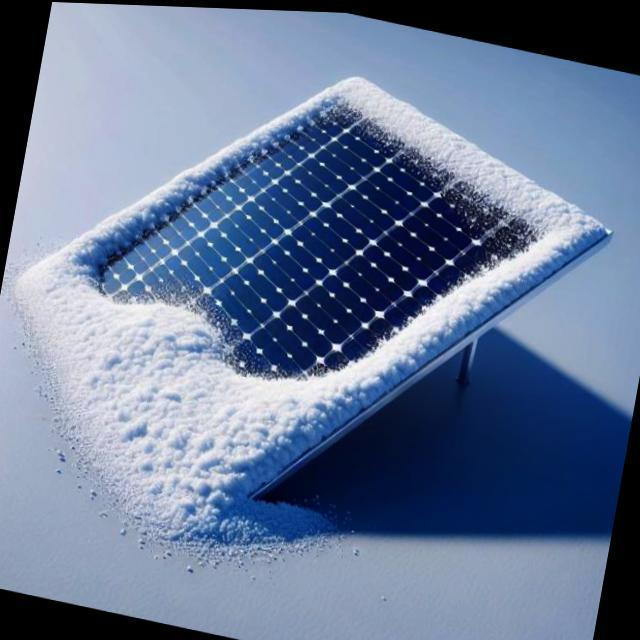Anomaly Solar Panel: (17, 26, 635, 539)
Snow: (15, 25, 631, 534), (94, 77, 497, 453)
